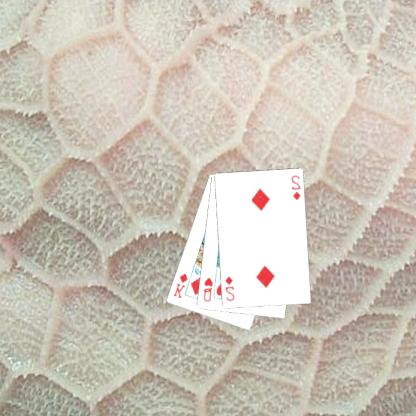2D: (223, 274, 238, 303), (290, 172, 303, 202)
KD: (172, 270, 191, 300)
QH: (202, 274, 216, 304)
